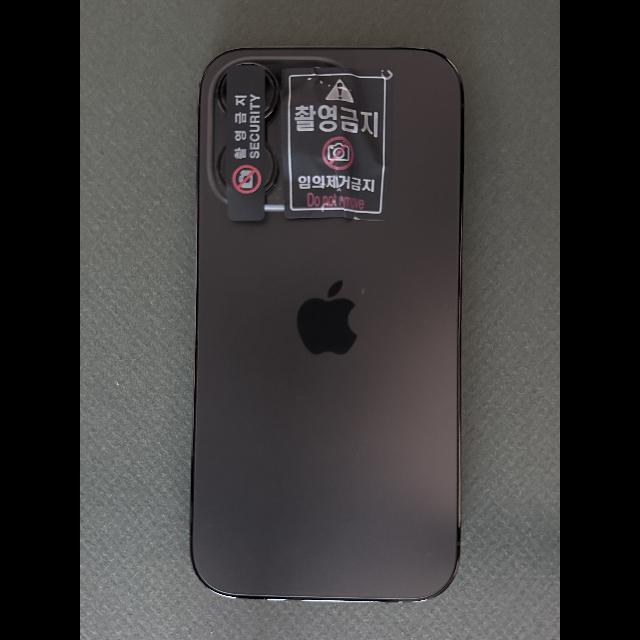lens: (236, 62, 279, 120), (265, 142, 277, 193)
phone: (189, 46, 465, 603)
sticker: (281, 67, 395, 221), (227, 65, 265, 221)
